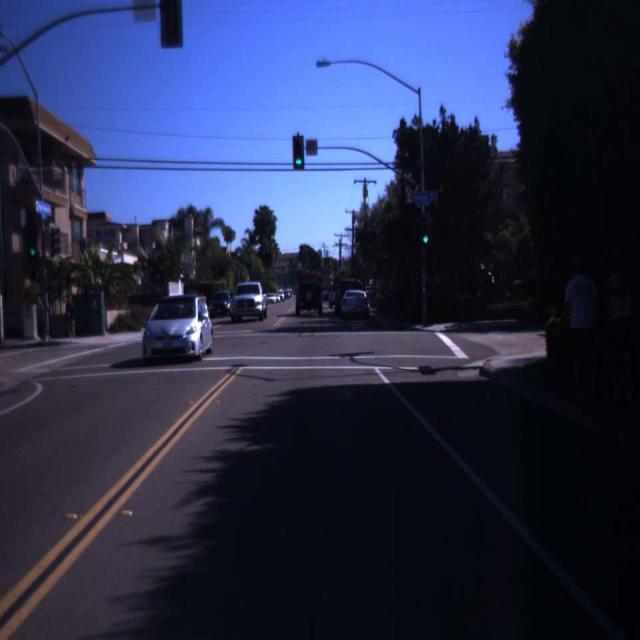yesil: (292, 134, 305, 171), (420, 214, 430, 245)
